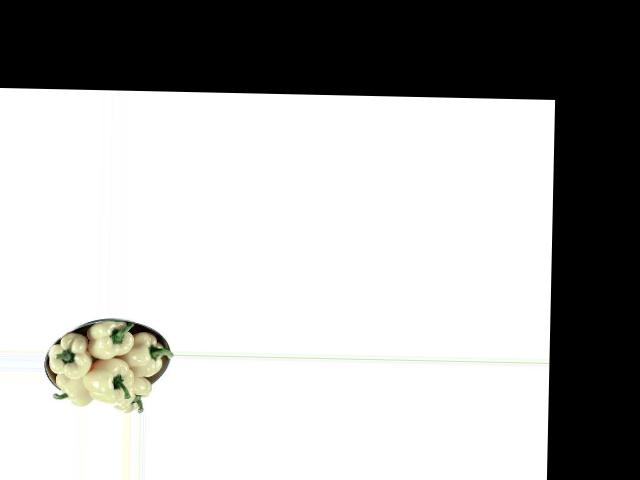bell_pepper: (113, 372, 156, 412)
